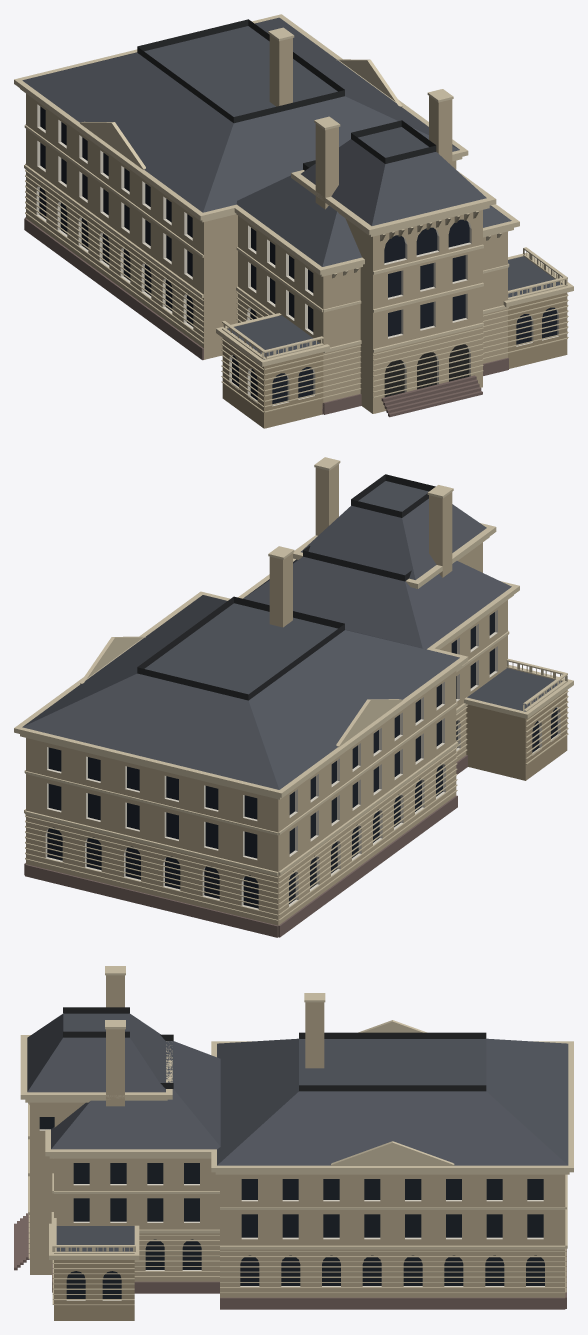
Rendered from united-states-court-house-and-post-office.glb.
3 renders of one model, top to bottom at view 1: azimuth 30°, elevation 25°; view 2: azimuth 150°, elevation 25°; view 3: azimuth 270°, elevation 25°, orthographic. The views are drawn at different scales.
Visible parts, largest first — view 1: united_roof, united_stone, united_trim, united_trim2, united_glass, united_rust, united_base, united_sash, united_iron, united_dark; view 2: united_roof, united_stone, united_trim, united_glass, united_trim2, united_base, united_rust, united_sash, united_iron; view 3: united_roof, united_stone, united_trim, united_glass, united_trim2, united_base, united_rust, united_iron, united_sash.
Boxes of the visible parts, x1,y1,x2,y2 form: united_roof: [22, 17, 561, 359]; united_stone: [26, 35, 507, 413]; united_trim: [14, 14, 573, 366]; united_trim2: [25, 169, 568, 412]; united_glass: [39, 106, 557, 404]; united_rust: [222, 292, 567, 428]; united_base: [24, 217, 508, 417]; united_sash: [36, 104, 558, 406]; united_iron: [137, 19, 436, 170]; united_dark: [384, 344, 469, 397]; united_roof: [22, 481, 561, 789]; united_stone: [26, 464, 507, 925]; united_trim: [14, 457, 573, 875]; united_glass: [47, 612, 557, 908]; united_trim2: [25, 690, 568, 920]; united_base: [24, 755, 467, 937]; united_rust: [466, 690, 567, 780]; united_sash: [45, 610, 560, 909]; united_iron: [137, 474, 435, 700]; united_roof: [27, 1013, 568, 1251]; united_stone: [30, 975, 565, 1297]; united_trim: [20, 966, 573, 1259]; united_glass: [39, 1117, 544, 1298]; united_trim2: [28, 1215, 566, 1305]; united_base: [14, 1213, 566, 1309]; united_rust: [54, 1260, 134, 1320]; united_iron: [63, 1007, 486, 1091]; united_sash: [39, 1129, 544, 1300].
Size of the model in its own units: 36.8 by 29.35 by 59.
